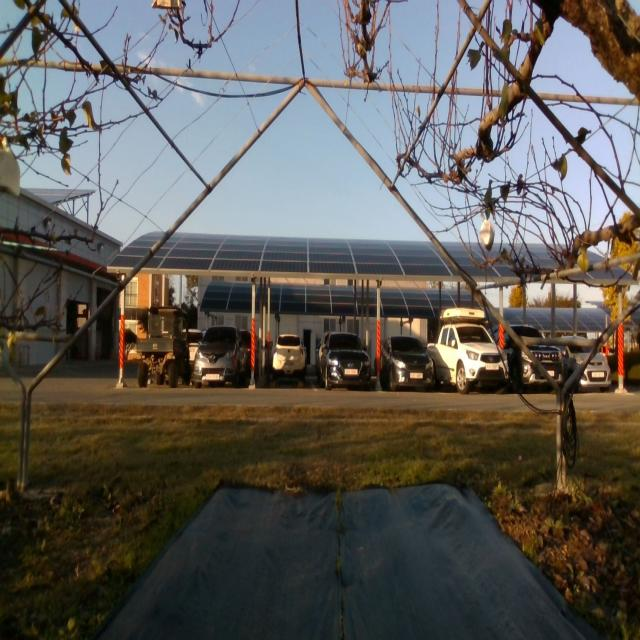pearbags: (0, 150, 20, 196), (481, 218, 494, 252)
